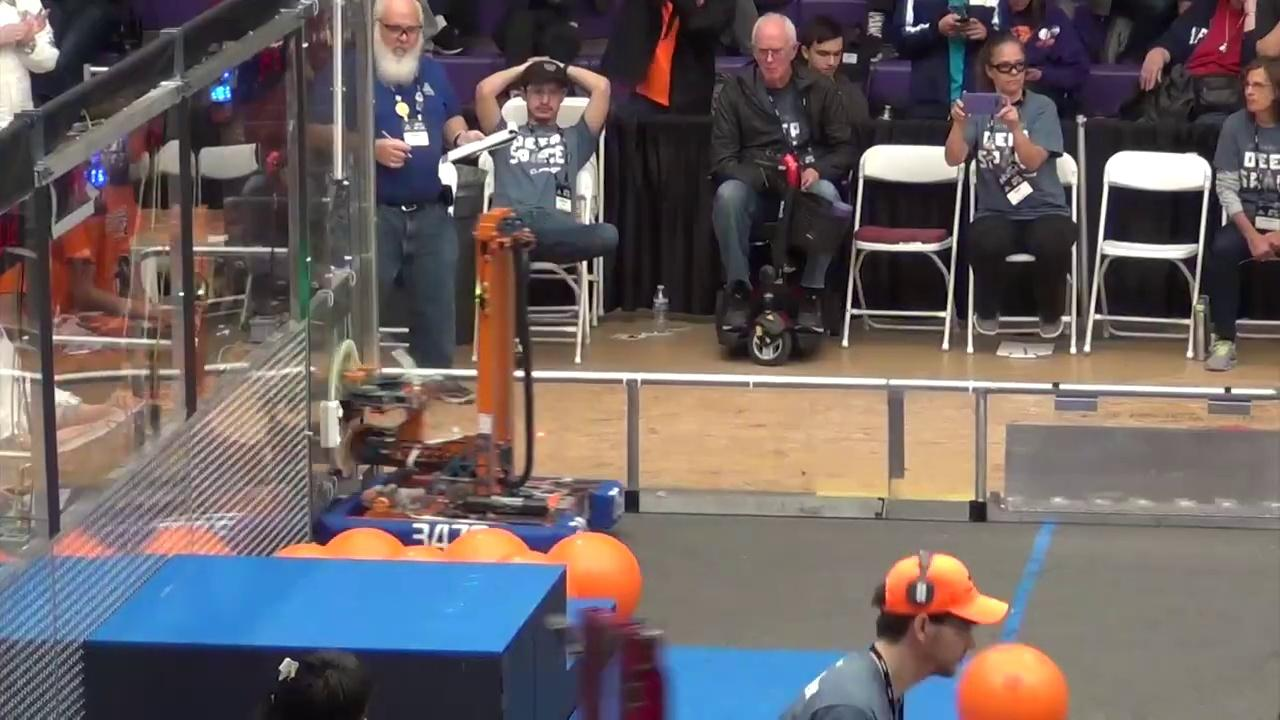robot: (314, 204, 630, 557)
